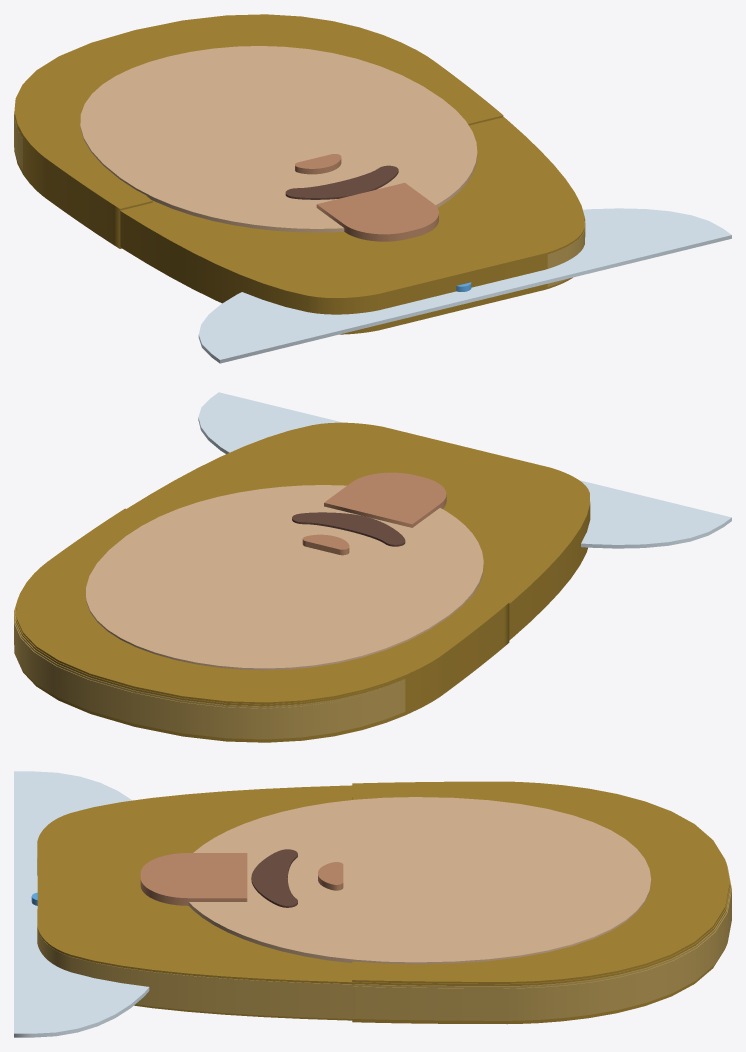
File: emoji_u1f469_1f3fc_200d_1f4bc.glb
3 renders of one model, top to bottom at view 1: azimuth 30°, elevation 25°; view 2: azimuth 150°, elevation 25°; view 3: azimuth 270°, elevation 25°, orthographic. The views are drawn at different scales.
Parts seen in each view (by area): view 1: emoji_u1f469_1f3fc_200d_1f4bc; view 2: emoji_u1f469_1f3fc_200d_1f4bc; view 3: emoji_u1f469_1f3fc_200d_1f4bc.
Boxes of the visible parts, box(x1,y1,x2,y2) form: emoji_u1f469_1f3fc_200d_1f4bc: box(14, 14, 731, 363); emoji_u1f469_1f3fc_200d_1f4bc: box(14, 392, 731, 742); emoji_u1f469_1f3fc_200d_1f4bc: box(14, 771, 731, 1037).
Bounding box in the file's own units: 0.0294 × 0.003 × 0.0339.
